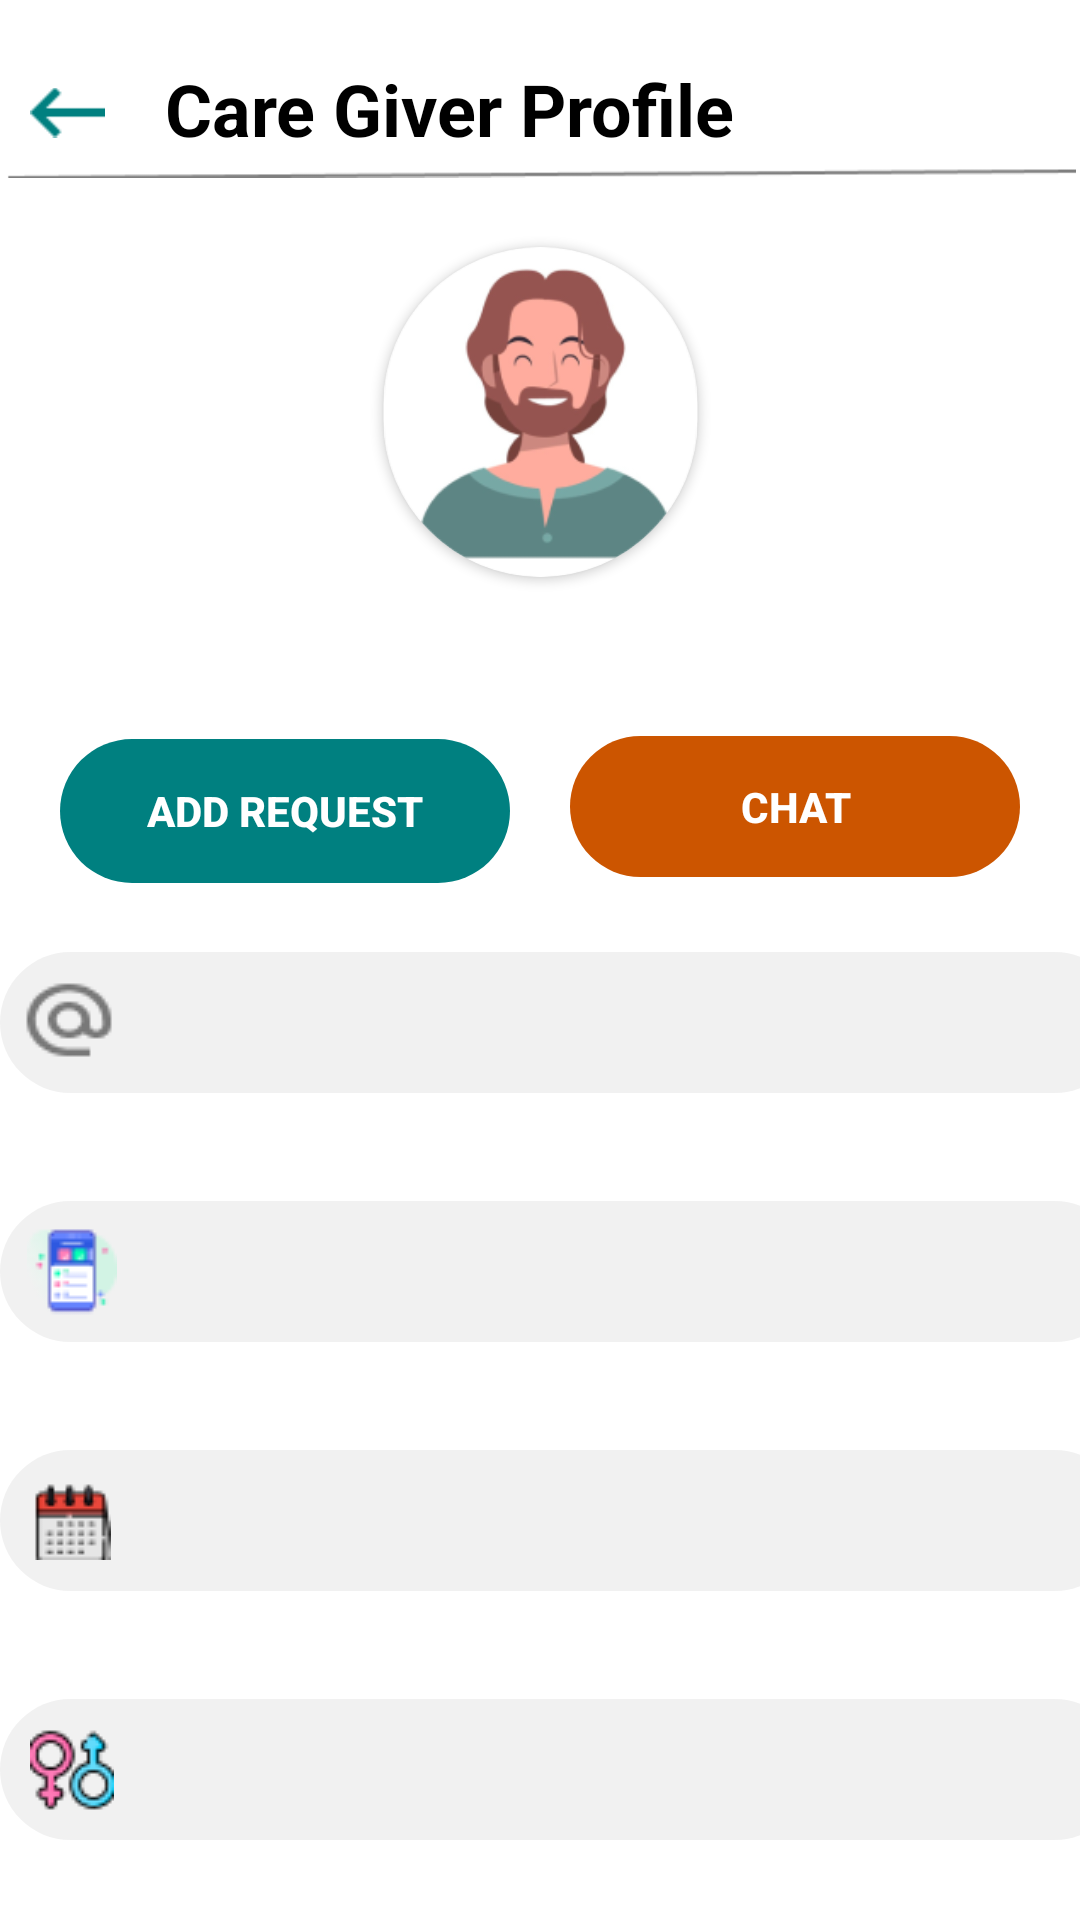

Where to tap for icons on this 1080 x 1920 app screen, as (x=x, y=y):
greenback: (x=67, y=113)
user: (x=540, y=423)
